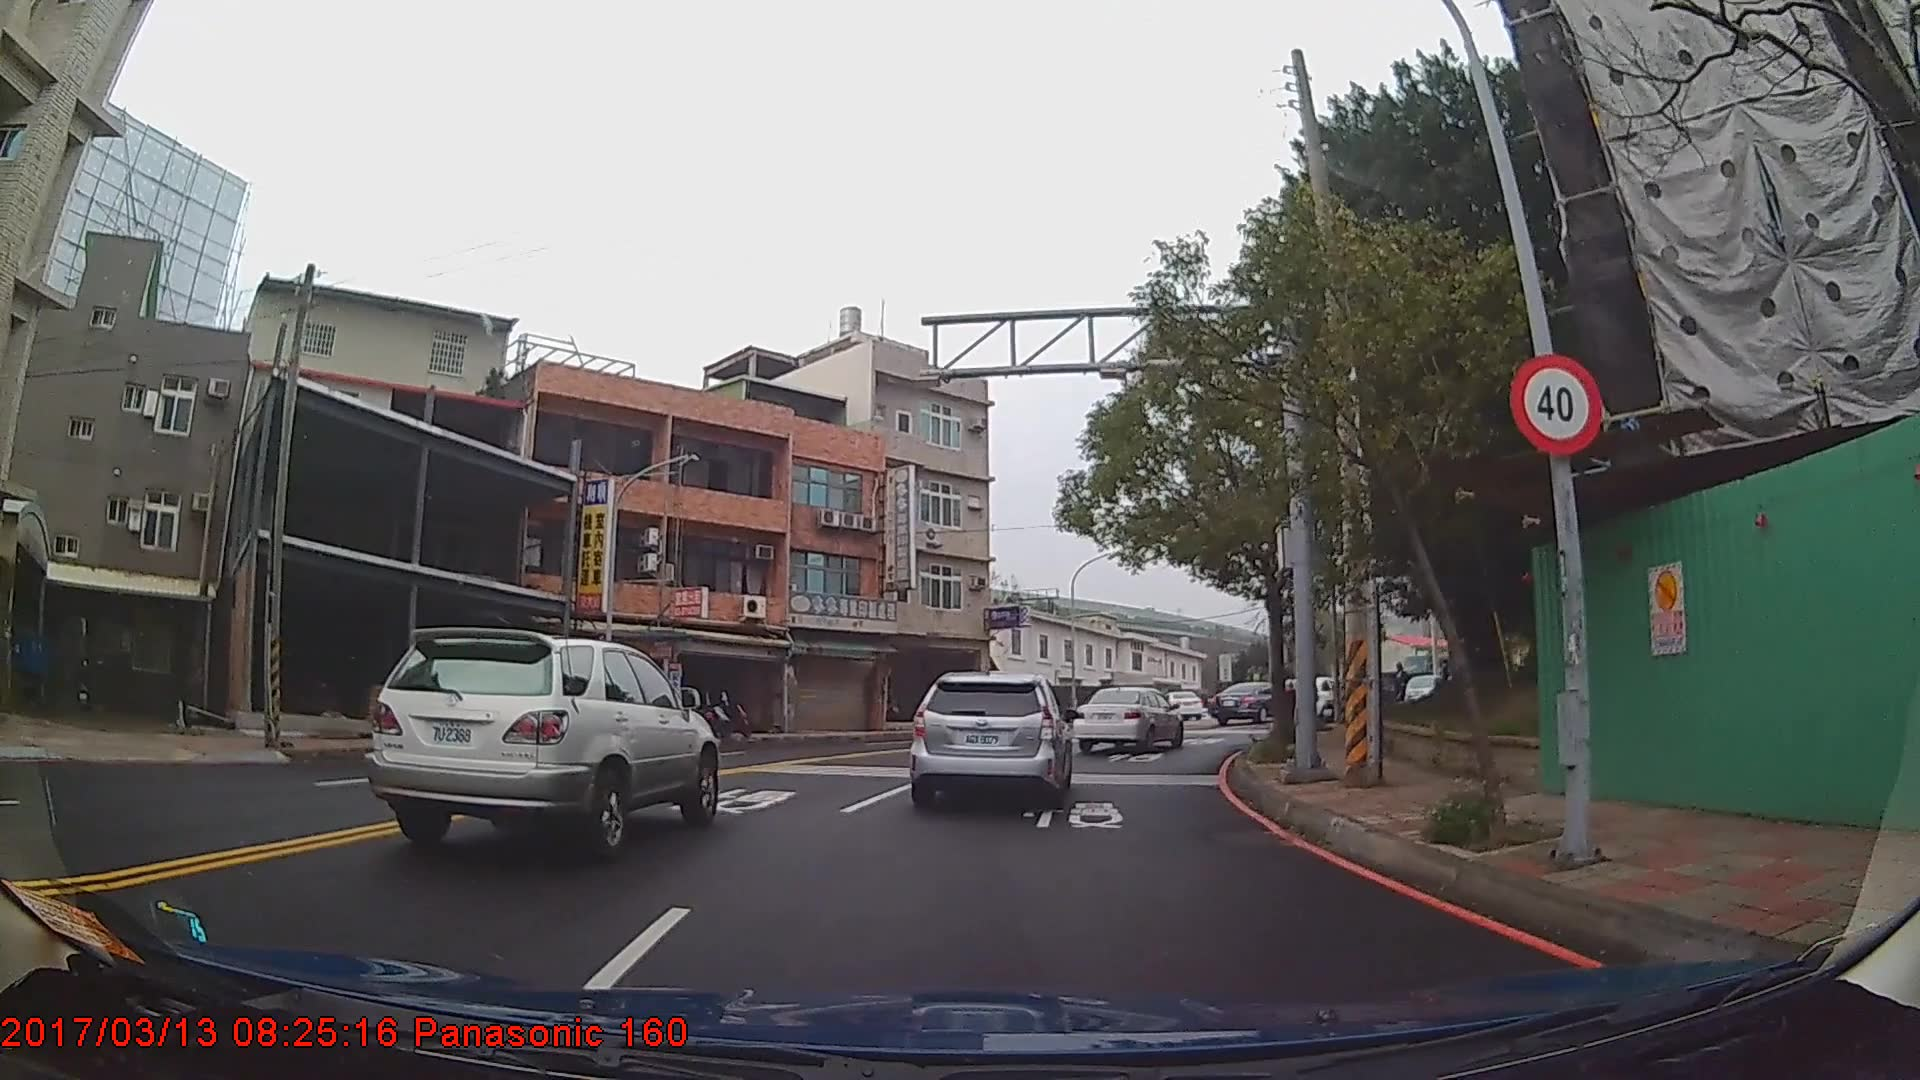vehicle: (361, 625, 719, 857), (909, 669, 1073, 810), (1071, 684, 1185, 752), (1208, 679, 1288, 725)
